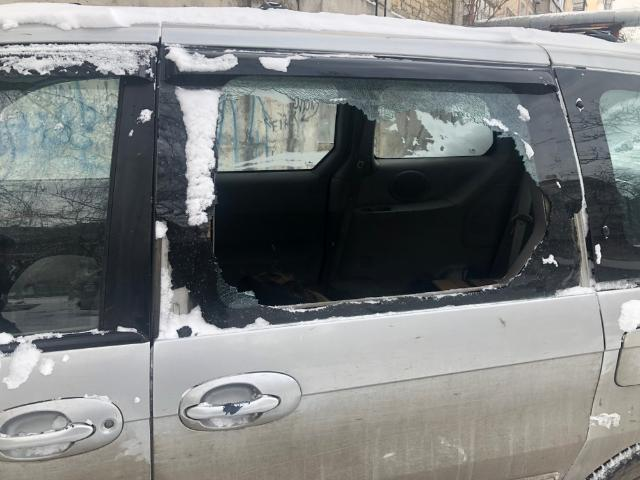glass shatter: (164, 74, 582, 326)
